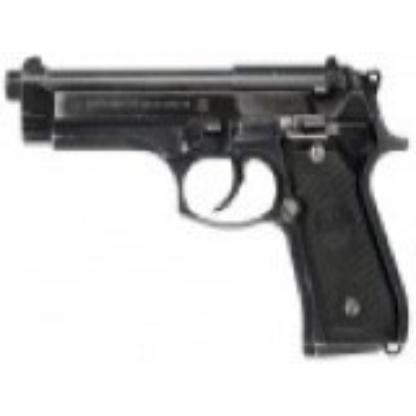gun: (6, 54, 410, 362)
